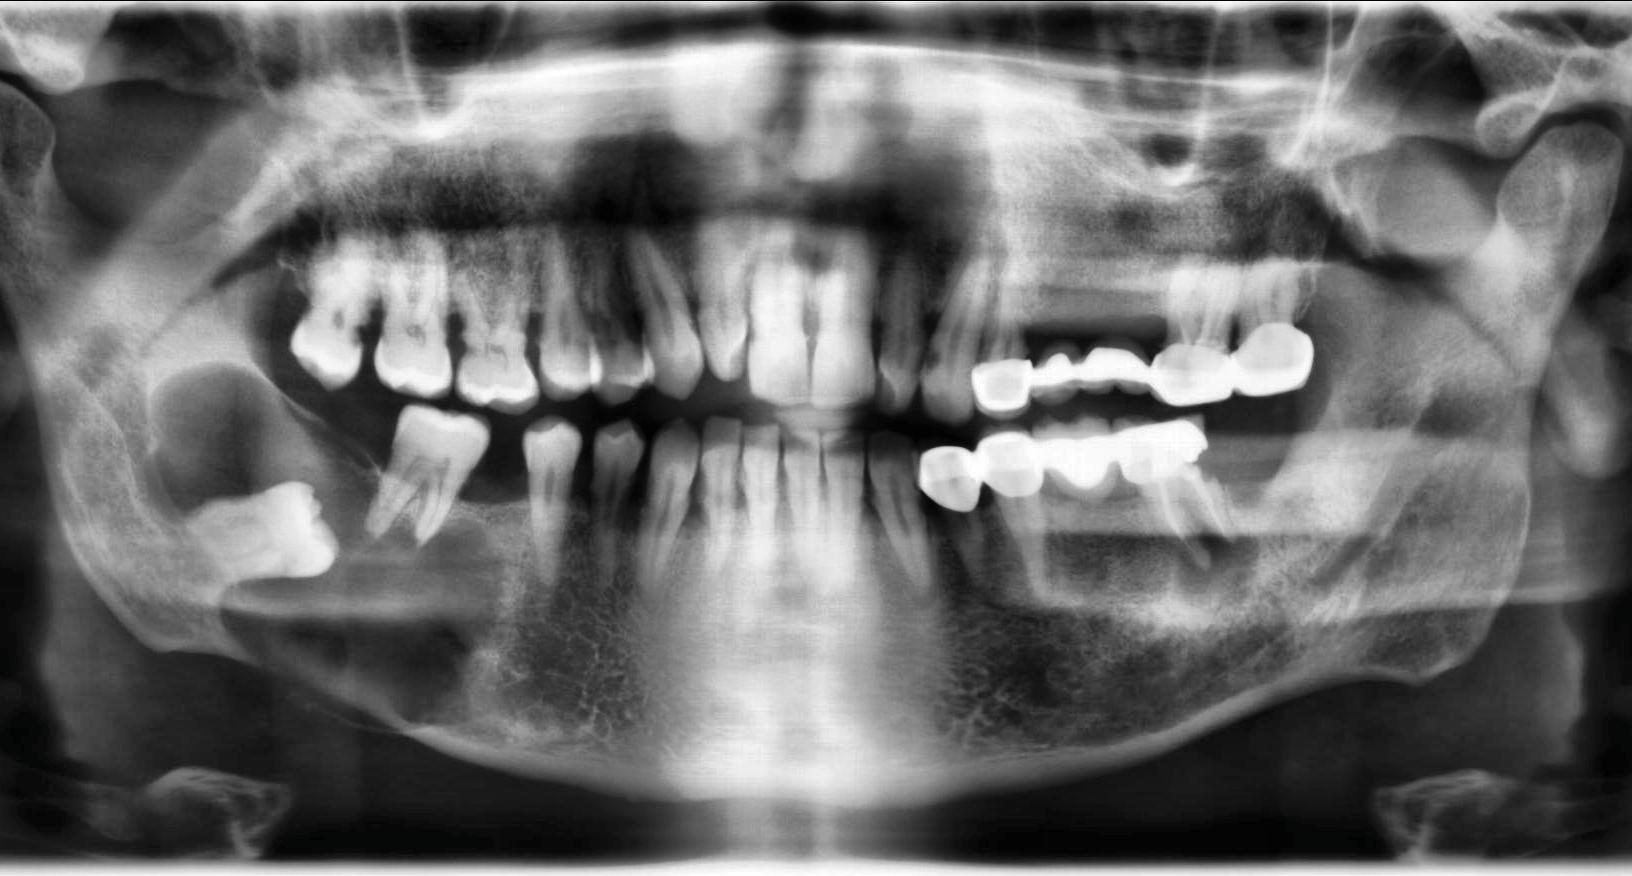keratokist: (139, 359, 507, 735)
radikuler: (1174, 530, 1259, 616)
